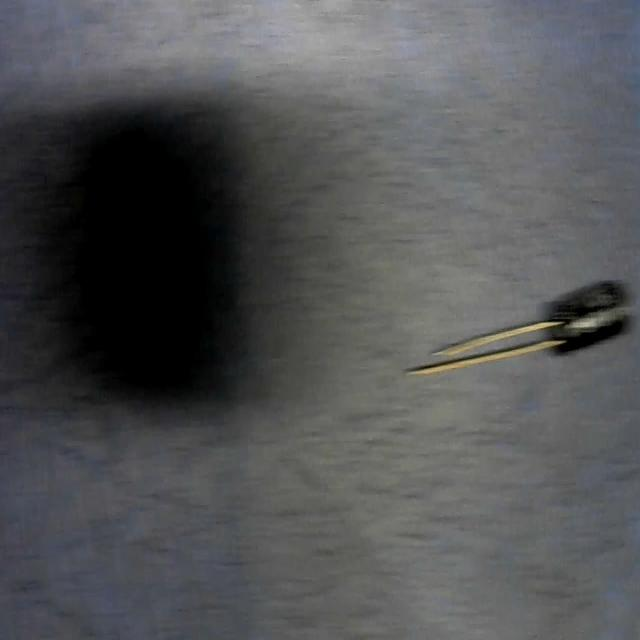capacitor: (403, 285, 624, 378)
